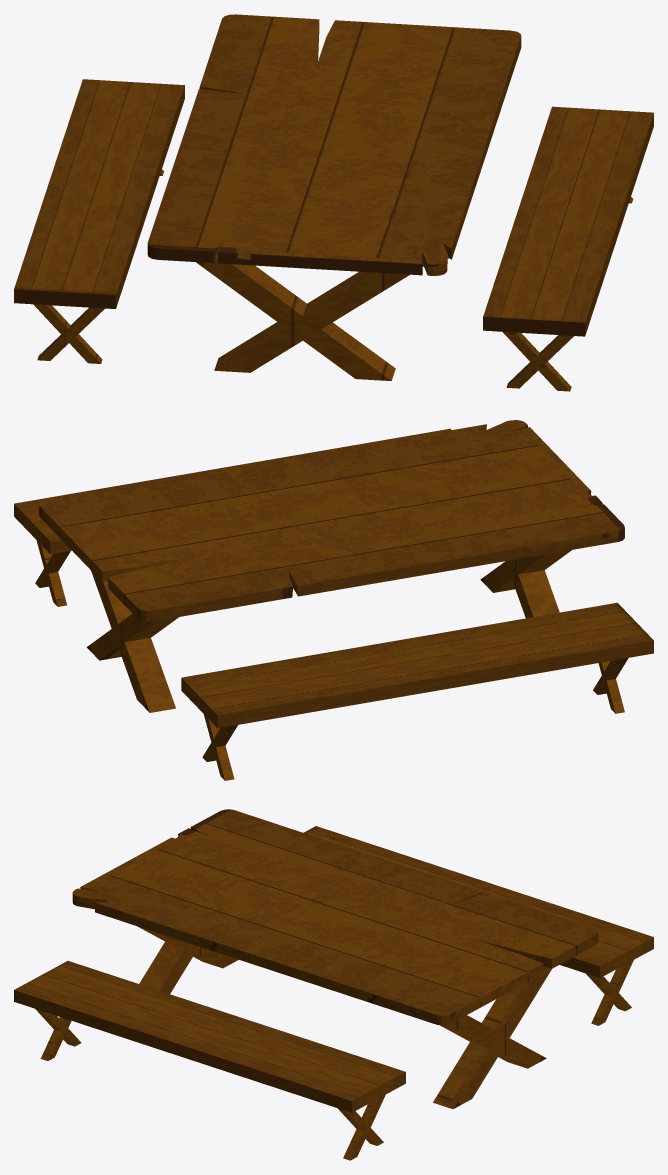
File: sto i klupe.fbx
3 views of the same model, one above another, from view 1: azimuth 30°, elevation 25°; view 2: azimuth 150°, elevation 25°; view 3: azimuth 270°, elevation 25° (orthographic). The views are drawn at different scales.
Visible parts, largest first — view 1: sto, sumaklupa2, sumaklupa; view 2: sto, sumaklupa, sumaklupa2; view 3: sto, sumaklupa2, sumaklupa.
Part boxes in pixels (<box>): sto: <box>147,14,521,380</box>; sumaklupa2: <box>483,106,653,391</box>; sumaklupa: <box>14,79,184,363</box>; sto: <box>38,420,624,712</box>; sumaklupa: <box>181,602,653,780</box>; sumaklupa2: <box>14,428,451,606</box>; sto: <box>72,809,598,1108</box>; sumaklupa2: <box>14,961,405,1160</box>; sumaklupa: <box>303,826,653,1025</box>.
Size of the model in its own units: 316 by 64.4 by 311.
Materials: 2 (2 with a texture image).
